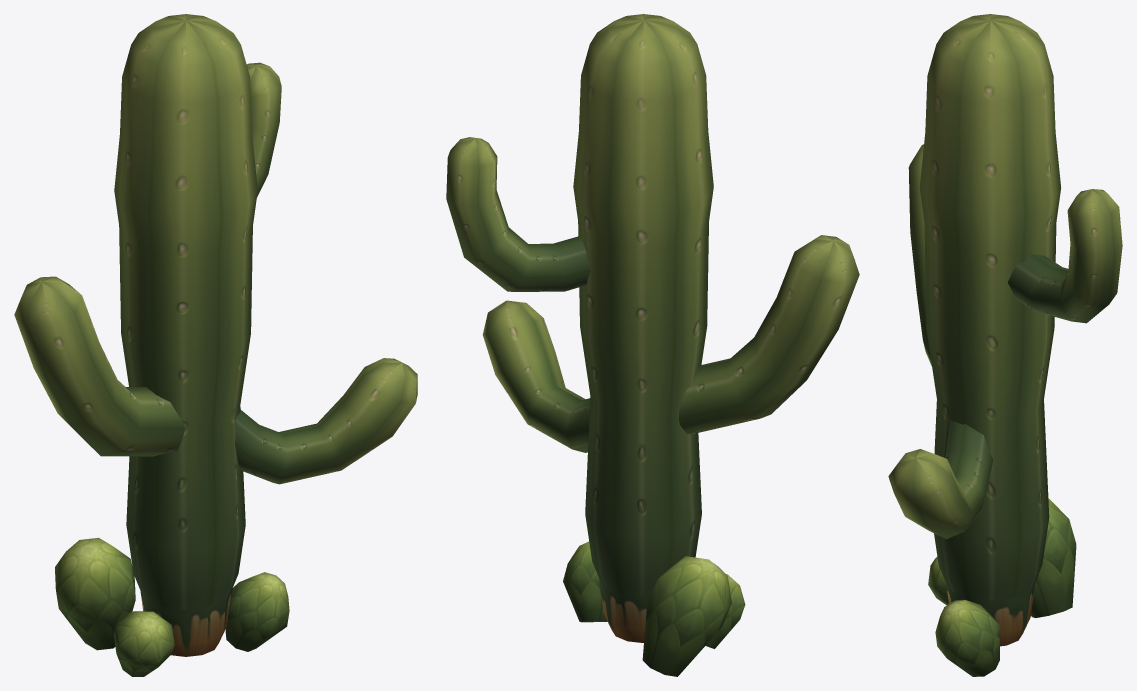
Rendered from Desert_cactus_03.fbx.
3 renders of one model, left to right at view 1: azimuth 30°, elevation 25°; view 2: azimuth 150°, elevation 25°; view 3: azimuth 270°, elevation 25°, orthographic. The views are drawn at different scales.
Parts seen in each view (by area): view 1: Desert_cactus_03; view 2: Desert_cactus_03; view 3: Desert_cactus_03.
Boxes of the visible parts, x1,y1,x2,y2 form: Desert_cactus_03: [14, 14, 417, 676]; Desert_cactus_03: [446, 14, 859, 676]; Desert_cactus_03: [888, 14, 1122, 676].
Bounding box in the file's own units: 148 × 235 × 79.52.
